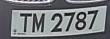2: (49, 11, 64, 34)
7: (63, 12, 76, 32), (87, 10, 99, 31)
8: (75, 11, 87, 31)
M: (32, 11, 46, 35)
T: (18, 11, 32, 36)
